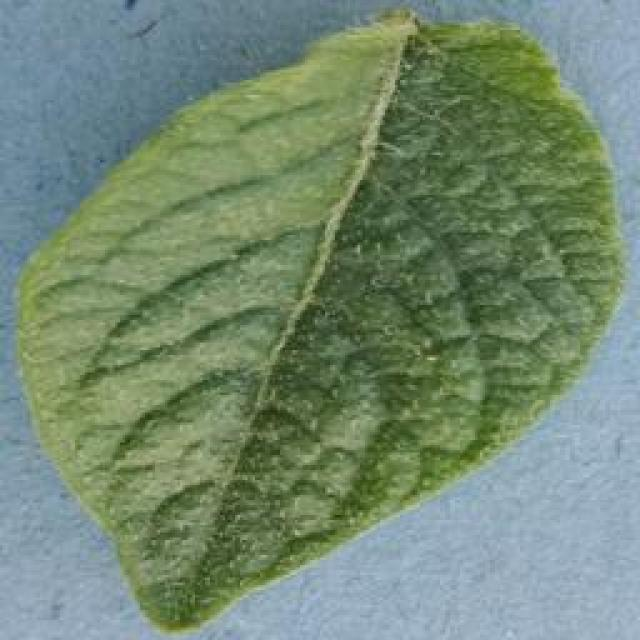Potato_Healthy: (5, 7, 635, 638)
